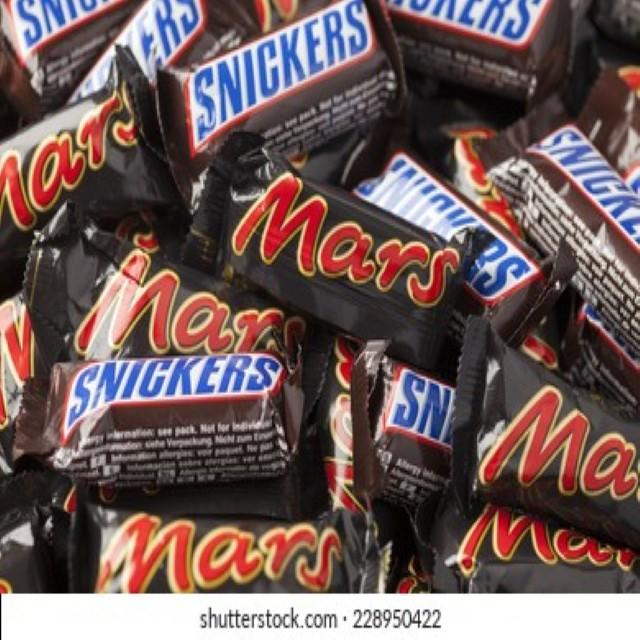mars_chocolate: (107, 505, 370, 615), (257, 173, 440, 330), (476, 378, 640, 519), (67, 262, 268, 353), (0, 97, 130, 235), (453, 506, 640, 593)
snickers_chocolate: (143, 12, 435, 158), (370, 145, 548, 330), (56, 364, 316, 474), (521, 88, 640, 301)
